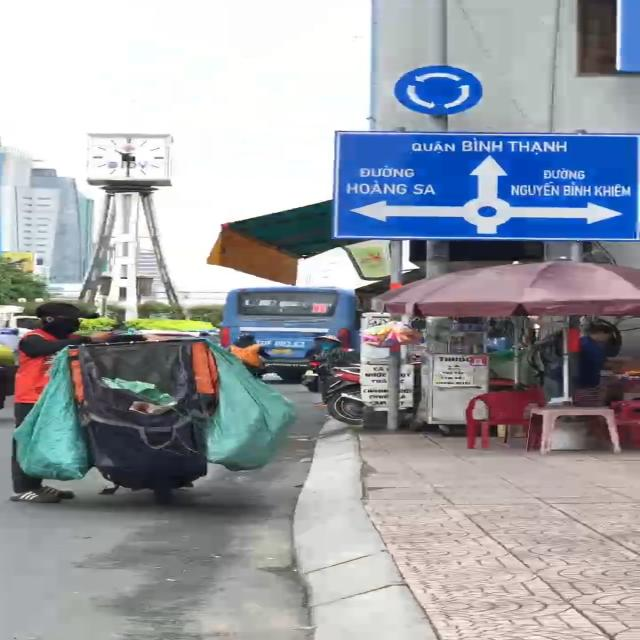Bien bao noi giao nhau chay theo vong xuyen: (386, 64, 492, 116)
